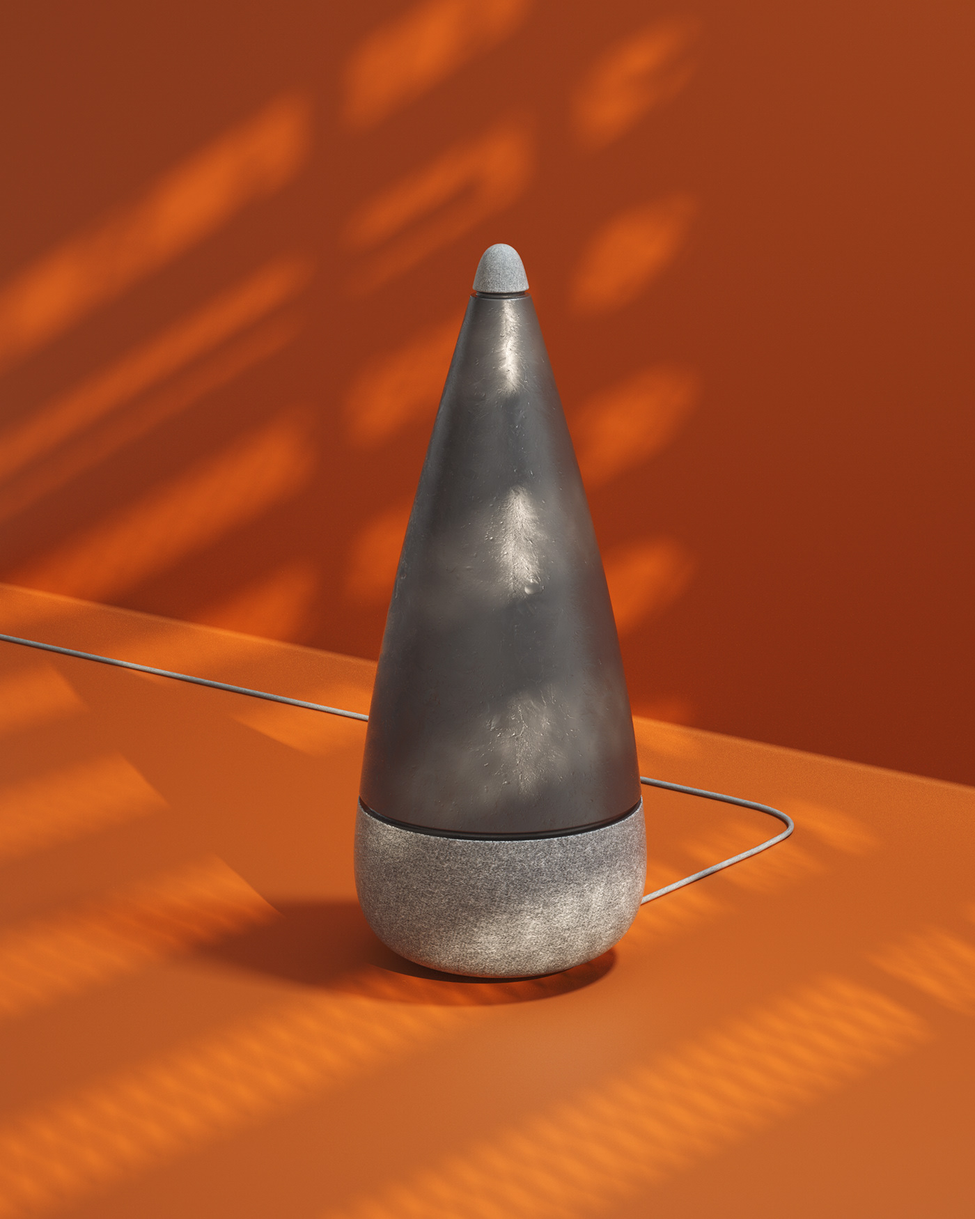not a gesture sign: (361, 295, 638, 837)
